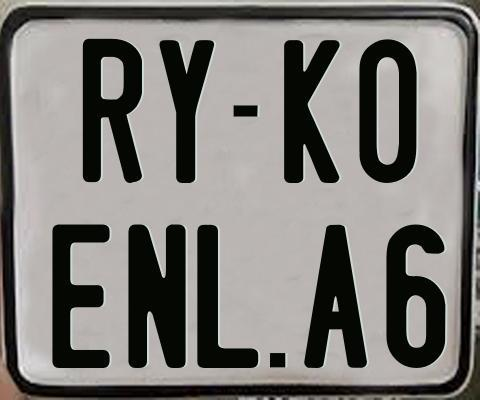0: (356, 39, 418, 187)
6: (384, 221, 443, 367)
A: (301, 222, 366, 365)
E: (52, 222, 114, 370)
K: (282, 39, 341, 186)
L: (196, 223, 261, 369)
N: (126, 221, 186, 371)
R: (83, 39, 143, 187)
Y: (158, 37, 216, 182)
